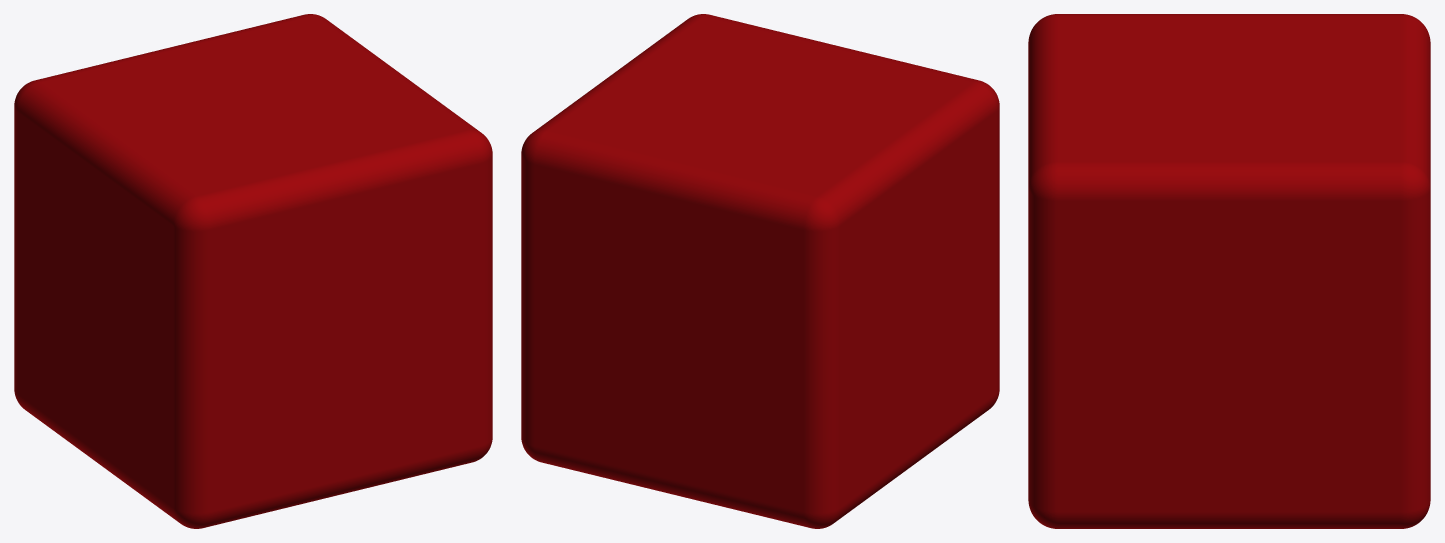
The model's file is BombButton.fbx.
3 views of the same model, side by side, from view 1: azimuth 30°, elevation 25°; view 2: azimuth 150°, elevation 25°; view 3: azimuth 270°, elevation 25° (orthographic). The views are drawn at different scales.
Visible parts, largest first — view 1: Cube; view 2: Cube; view 3: Cube.
Part boxes in pixels (<box>): Cube: <box>14,14,492,528</box>; Cube: <box>521,14,999,528</box>; Cube: <box>1028,14,1430,528</box>.
Bounding box in the file's own units: 200 × 200 × 200.
